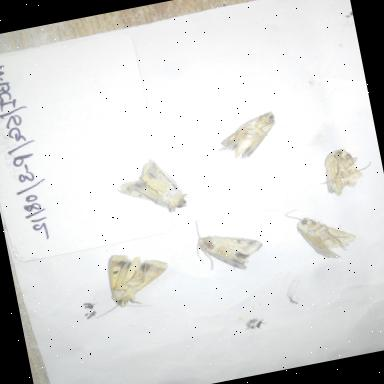abw: (80, 239, 185, 323), (182, 202, 272, 284), (278, 194, 364, 270), (112, 152, 194, 226), (210, 104, 292, 168), (309, 138, 382, 203)
